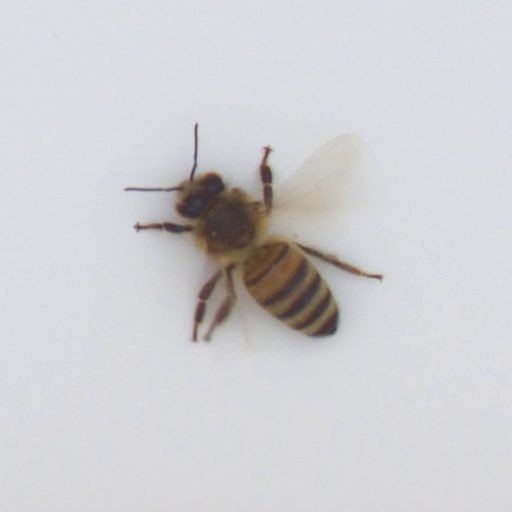Bee: (169, 171, 346, 340)
Thorax: (191, 196, 262, 262)
